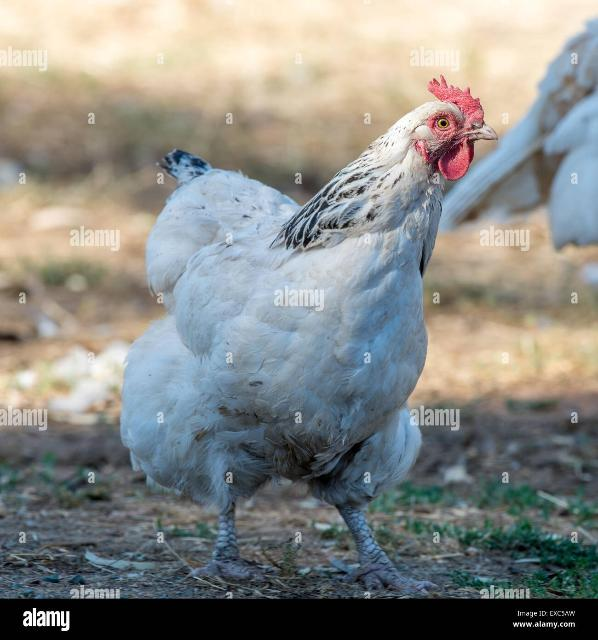Chicken: (117, 69, 499, 592)
